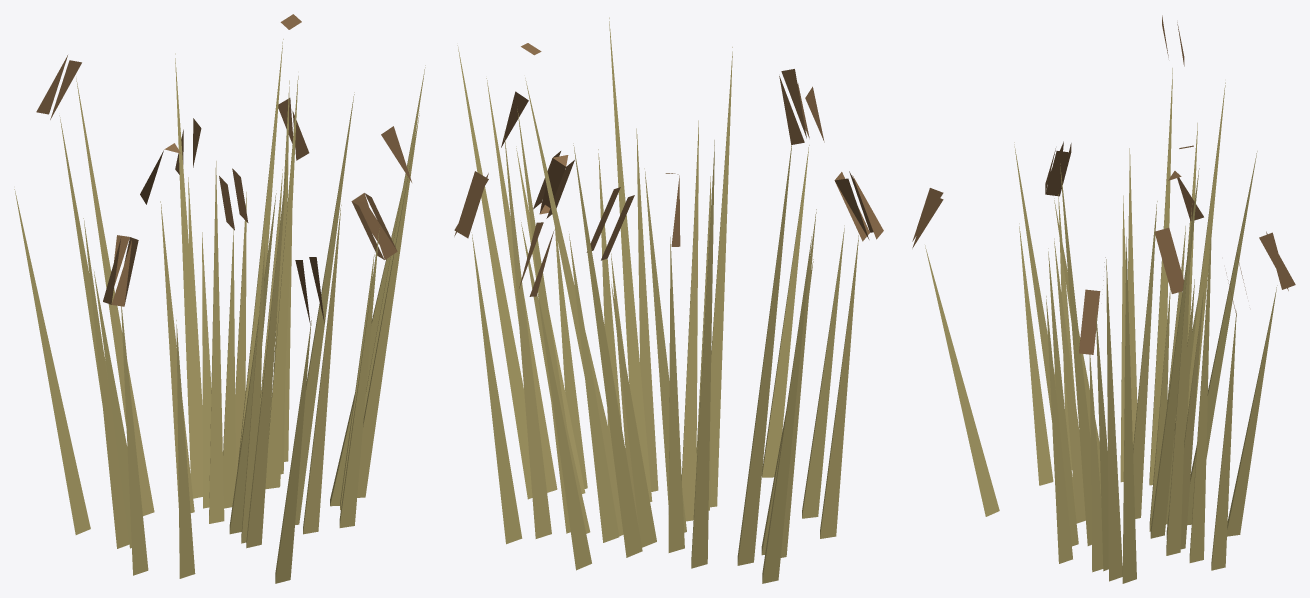
Rendered from nature_reed_a_lod1.glb.
The picture shows the model from 3 angles, left to right: view 1: azimuth 30°, elevation 25°; view 2: azimuth 150°, elevation 25°; view 3: azimuth 270°, elevation 25°; orthographic projection. The views are drawn at different scales.
Parts seen in each view (by area): view 1: nature_reed_a_lod1; view 2: nature_reed_a_lod1; view 3: nature_reed_a_lod1.
Part boxes in pixels (x1,y1,x2,y2): nature_reed_a_lod1: [14, 14, 425, 583]; nature_reed_a_lod1: [454, 17, 883, 583]; nature_reed_a_lod1: [912, 15, 1295, 583].
Size of the model in its own units: 1.89 by 2.33 by 1.81.
